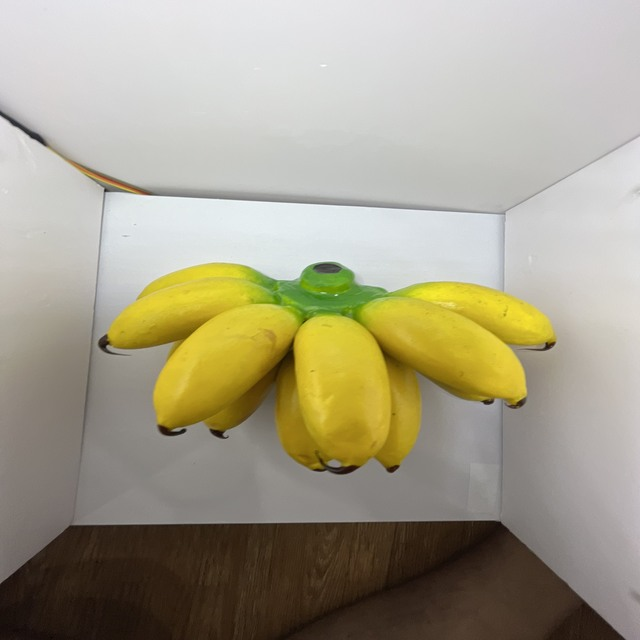Chuoi: (89, 262, 562, 478)
